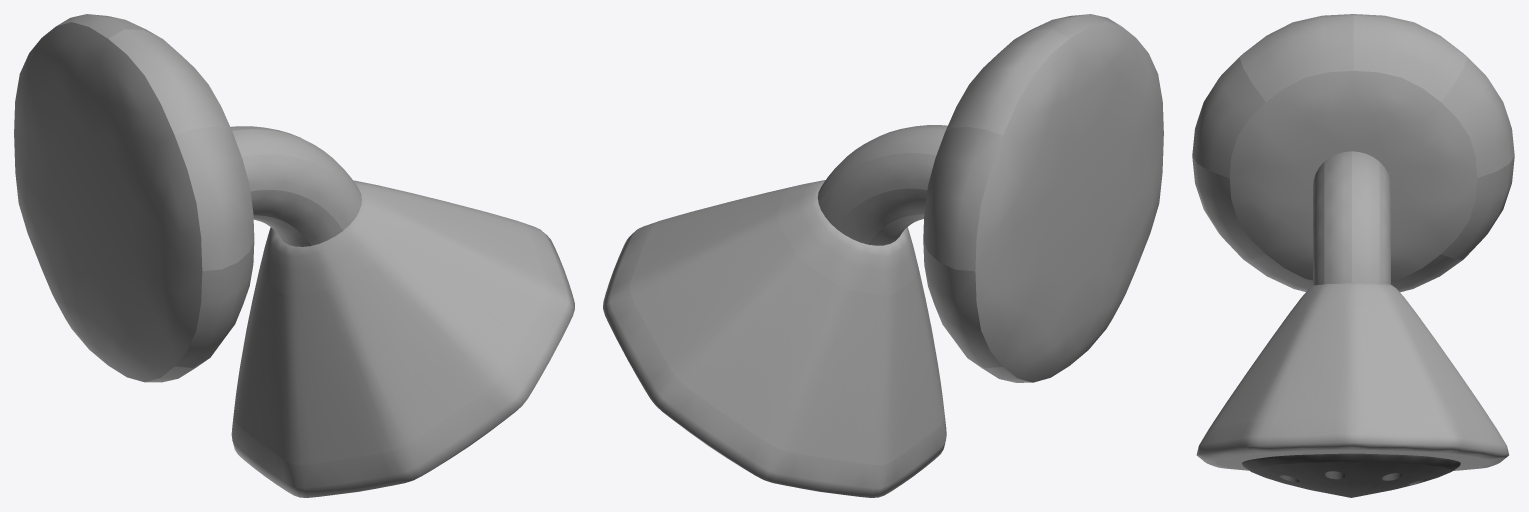
File: Showerhead.fbx
3 renders of one model, left to right at view 1: azimuth 30°, elevation 25°; view 2: azimuth 150°, elevation 25°; view 3: azimuth 270°, elevation 25°, orthographic. The views are drawn at different scales.
Visible parts, largest first — view 1: Body; view 2: Body; view 3: Body, Face_Hole.
Part boxes in pixels (box(x1,y1,x2,y2)): Body: box(14, 14, 574, 497); Body: box(603, 14, 1163, 497); Body: box(1192, 14, 1514, 470); Face_Hole: box(1242, 453, 1460, 497).
Bounding box in the file's own units: 77.52 × 78.55 × 57.44.
2 materials, 2 textured.
